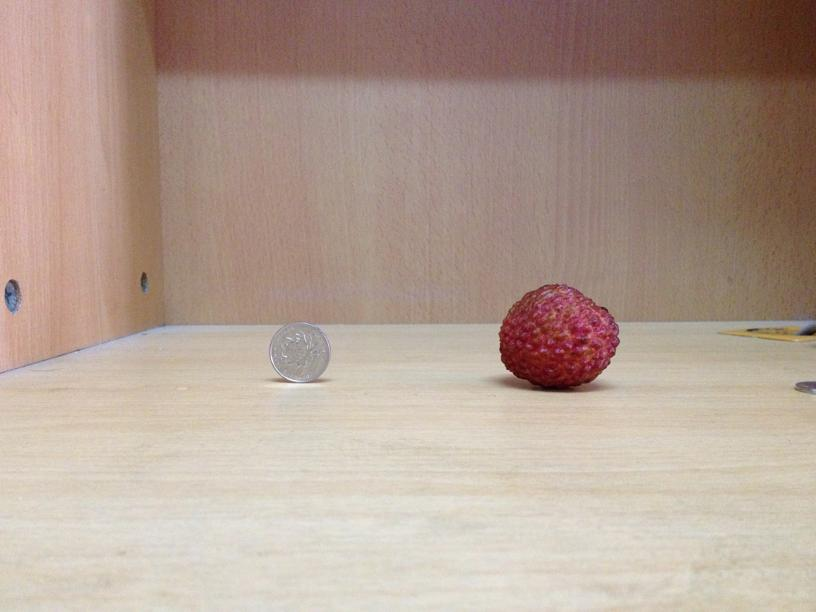coin: (270, 321, 329, 383)
litchi: (498, 283, 619, 387)
